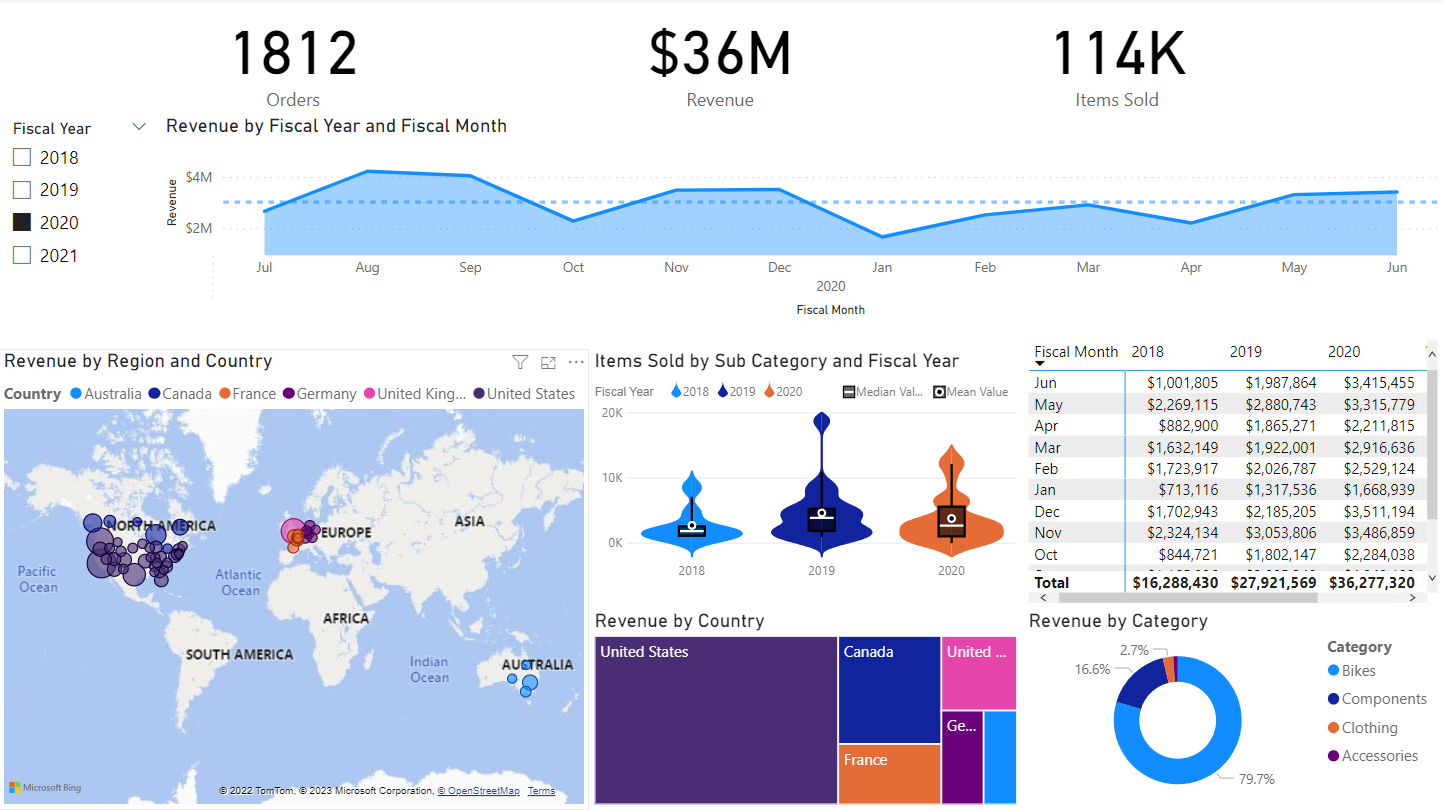

This screenshot's page, from the dashboard's own definition file:
{"tool":"powerbi","page":{"name":"Sales Report","canvas":[1280,720],"ordinal":0},"visuals":[{"type":"map","fields":{"Size":["Order_Items.Revenue"],"Series":["Customer.Country"],"Category":["Customer.Region"]},"box":[0,310.7,523.6,408.4],"z":0},{"type":"treemap","fields":{"Group":["Customer.Country"],"Values":["Order_Items.Revenue"]},"box":[523.6,541.1,384,178],"z":1000},{"type":"areaChart","fields":{"Y":["Order_Items.Revenue"],"Category":["Calendar.Fiscal Date.Fiscal Year","Calendar.Fiscal Date.Fiscal Month","Calendar.Fiscal Date.Day"]},"box":[143.6,102.9,1136.7,184.4],"z":2000},{"type":"pivotTable","fields":{"Values":["Order_Items.Revenue"],"Rows":["Calendar.Fiscal Month"],"Columns":["Calendar.Fiscal Year"]},"box":[907.6,297.9,372.4,243.2],"z":3000},{"type":"card","fields":{"Values":["Order_Items.Orders"]},"box":[160.7,0,202.3,103],"z":5000},{"type":"card","fields":{"Values":["Order_Items.Revenue"]},"box":[537.9,0,204.2,103],"z":6000},{"type":"card","fields":{"Values":["Order_Items.Items Sold"]},"box":[889.6,0,204.2,103],"z":7000},{"type":"violinPlot4D46EB9EB3A141D9BA2289793175D971","fields":{"sampling":["Products.Sub Category"],"measure":["Order_Items.Items Sold"],"category":["Calendar.Fiscal Year"]},"box":[523.6,310.7,384,214.1],"z":8000},{"type":"donutChart","fields":{"Y":["Order_Items.Revenue"],"Category":["Products.Category"]},"box":[907.6,541.1,372.4,178],"z":9000},{"type":"slicer","fields":{"Values":["Calendar.Fiscal Year"]},"box":[0,102.9,143.6,160.5],"z":10000}]}

Visuals, with their boxes in screenshot pixels (x1, y1, x2, y2), scaled from the page's 1280x720 canvas onto the 1443x810 screenshot:
map - Order_Items.Revenue x Customer.Country: x1=0 y1=350 x2=590 y2=809
treemap - Customer.Country x Order_Items.Revenue: x1=590 y1=609 x2=1023 y2=809
areaChart - Order_Items.Revenue x Calendar.Fiscal Date.Fiscal Year: x1=162 y1=116 x2=1442 y2=323
pivotTable - Order_Items.Revenue x Calendar.Fiscal Month: x1=1023 y1=335 x2=1442 y2=609
card - Order_Items.Orders: x1=181 y1=0 x2=409 y2=116
card - Order_Items.Revenue: x1=606 y1=0 x2=837 y2=116
card - Order_Items.Items Sold: x1=1003 y1=0 x2=1233 y2=116
violinPlot4D46EB9EB3A141D9BA2289793175D971 - Products.Sub Category x Order_Items.Items Sold: x1=590 y1=350 x2=1023 y2=590
donutChart - Order_Items.Revenue x Products.Category: x1=1023 y1=609 x2=1442 y2=809
slicer - Calendar.Fiscal Year: x1=0 y1=116 x2=162 y2=296
